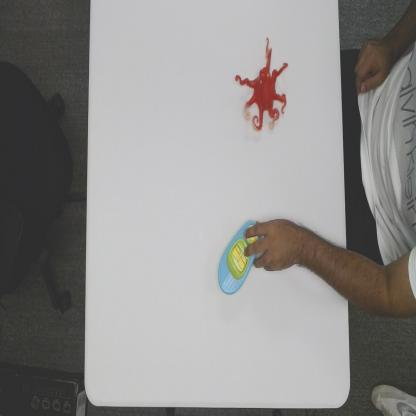Arm: (317, 230, 416, 322)
Boat: (217, 217, 262, 297)
Hand: (243, 220, 316, 272)
Octopus: (234, 34, 288, 133)
